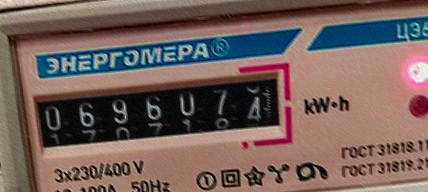0: (42, 102, 65, 131), (178, 86, 199, 117), (78, 99, 97, 126)
4: (245, 93, 264, 122)
6: (143, 89, 164, 121)
7: (211, 84, 232, 115)
9: (110, 94, 131, 124)
screen: (19, 57, 299, 166)
